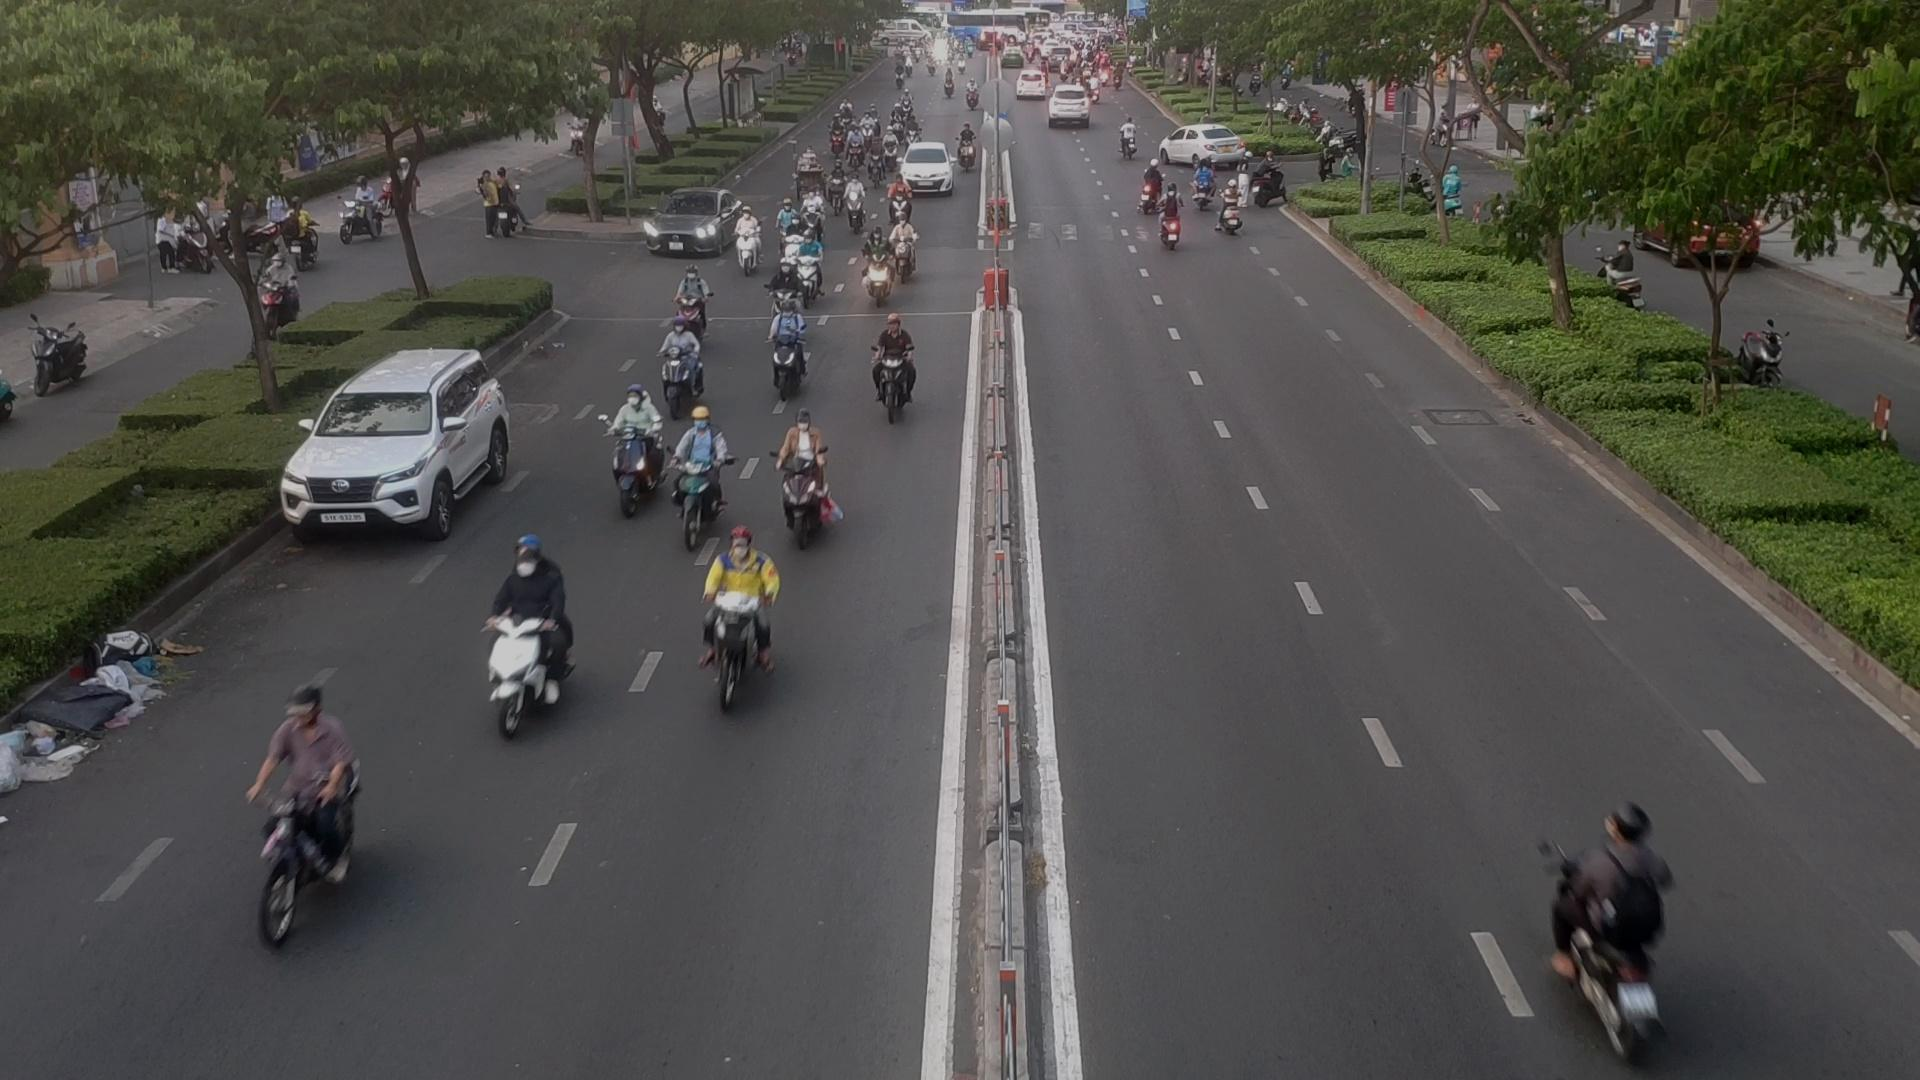car: (278, 345, 518, 538), (647, 193, 748, 261), (1164, 124, 1251, 164), (899, 142, 960, 195)
motorbike: (1534, 800, 1681, 1068), (261, 694, 357, 960), (458, 533, 582, 736), (676, 513, 787, 731), (753, 421, 837, 572), (663, 398, 737, 541), (611, 386, 662, 520), (858, 314, 918, 429), (655, 318, 695, 423), (674, 266, 717, 345), (771, 301, 803, 396), (795, 235, 833, 307), (860, 229, 890, 305), (894, 214, 924, 287), (733, 211, 765, 280), (762, 260, 795, 319), (1218, 179, 1246, 239), (1163, 177, 1184, 253), (1134, 161, 1162, 216), (847, 175, 869, 231), (955, 119, 975, 179), (800, 189, 823, 236), (887, 174, 909, 223), (1195, 167, 1213, 214), (825, 113, 845, 156), (902, 117, 924, 154), (774, 196, 790, 245), (832, 160, 848, 208), (1117, 117, 1135, 156), (785, 215, 799, 262), (849, 128, 862, 169), (886, 131, 899, 167), (869, 142, 880, 182), (858, 113, 872, 144)
